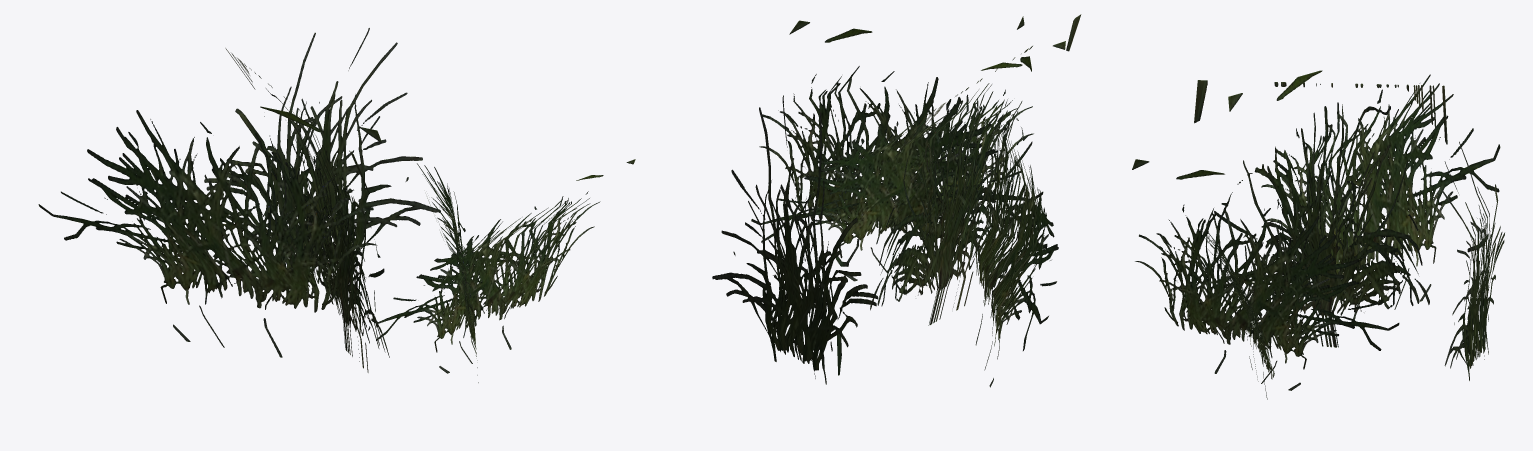
The model's file is forest_grass_001_b_LOD2.gltf.
3 views of the same model, side by side, from view 1: azimuth 30°, elevation 25°; view 2: azimuth 150°, elevation 25°; view 3: azimuth 270°, elevation 25° (orthographic). The views are drawn at different scales.
Parts seen in each view (by area): view 1: forest_grass_001_b_LOD2; view 2: forest_grass_001_b_LOD2; view 3: forest_grass_001_b_LOD2.
Part boxes in pixels (bbox=[...]): forest_grass_001_b_LOD2: bbox=[38, 28, 635, 382]; forest_grass_001_b_LOD2: bbox=[712, 14, 1081, 387]; forest_grass_001_b_LOD2: bbox=[1132, 70, 1504, 399].
Bounding box in the file's own units: 1.23 × 0.6866 × 1.07.
Materials: 1 (1 with a texture image).
